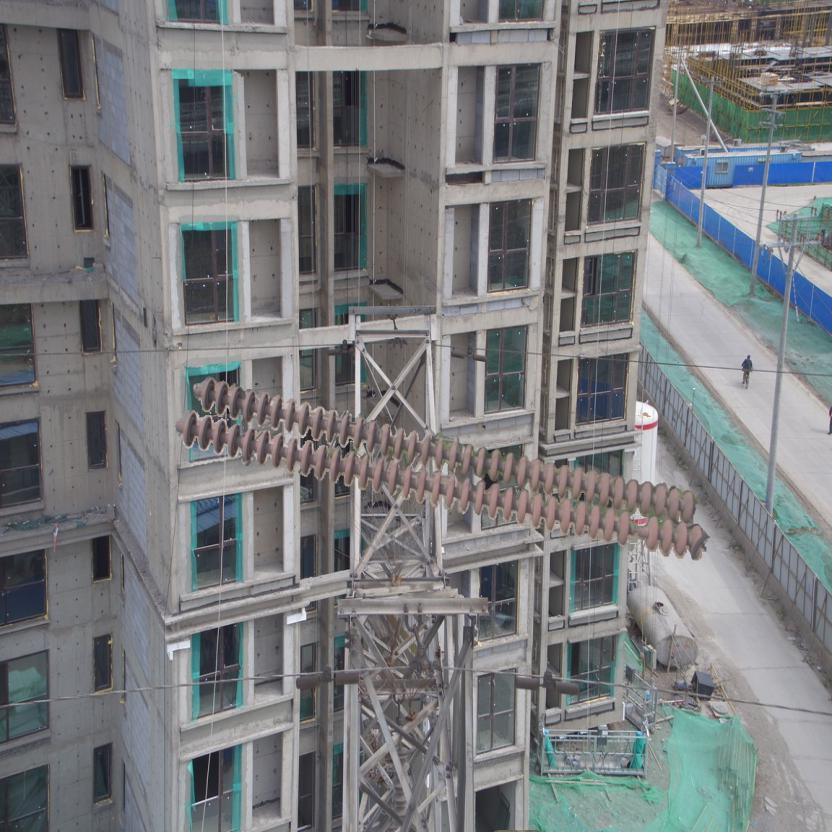defect: (612, 504, 663, 556)
